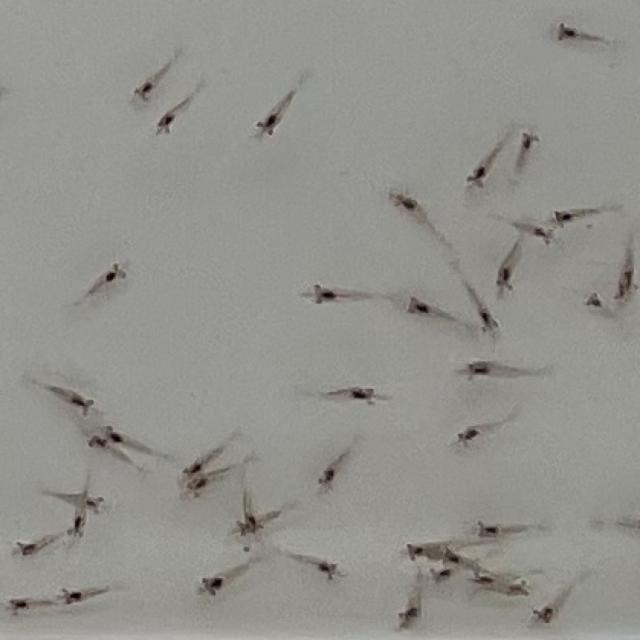shrimp-seed: (476, 304, 502, 334), (255, 112, 282, 138), (394, 190, 420, 216), (454, 423, 480, 448), (349, 384, 375, 409), (557, 20, 583, 44), (154, 110, 178, 136), (464, 166, 488, 192), (315, 464, 339, 490), (184, 474, 210, 498), (463, 360, 491, 382), (406, 295, 432, 318), (312, 281, 338, 304), (105, 262, 129, 286), (197, 574, 221, 598), (494, 266, 516, 292), (65, 514, 87, 540), (56, 586, 82, 608), (180, 458, 206, 480), (529, 604, 555, 626), (132, 78, 154, 103), (530, 224, 554, 246), (73, 396, 97, 418), (552, 205, 574, 228), (429, 564, 451, 586), (398, 608, 420, 630), (522, 129, 542, 153), (16, 538, 40, 558), (83, 496, 106, 516), (104, 424, 126, 444), (86, 434, 108, 454), (8, 594, 30, 614), (440, 546, 460, 568), (318, 559, 338, 580), (476, 520, 499, 538), (405, 542, 425, 562), (506, 580, 528, 598), (233, 519, 251, 539), (469, 572, 491, 588), (586, 290, 604, 308), (245, 514, 263, 532), (620, 268, 636, 288), (612, 282, 626, 302)
